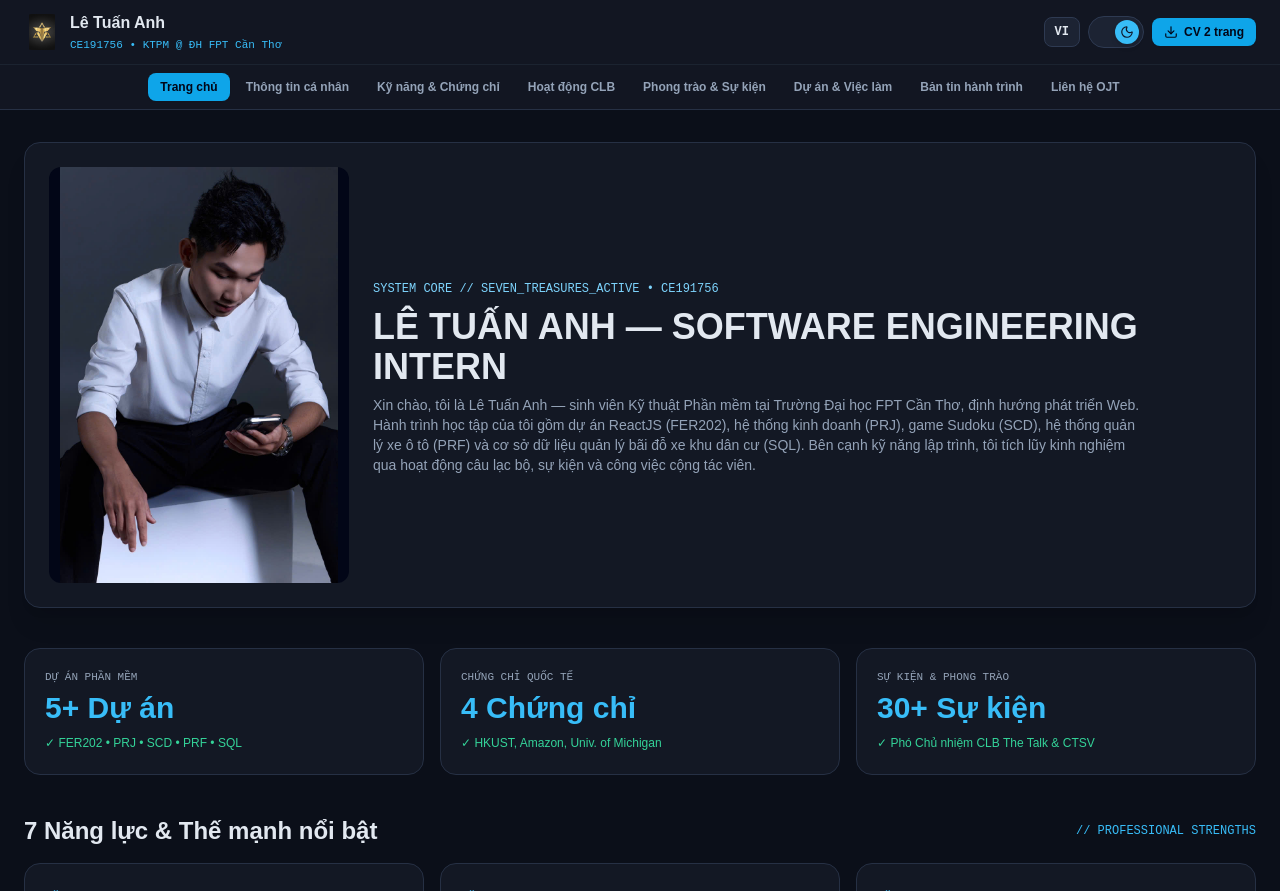
shows a delivery error and keeps the contact form populated
Click the button "Liên hệ OJT".
click(1085, 87)  # box [1039,73,1132,101]
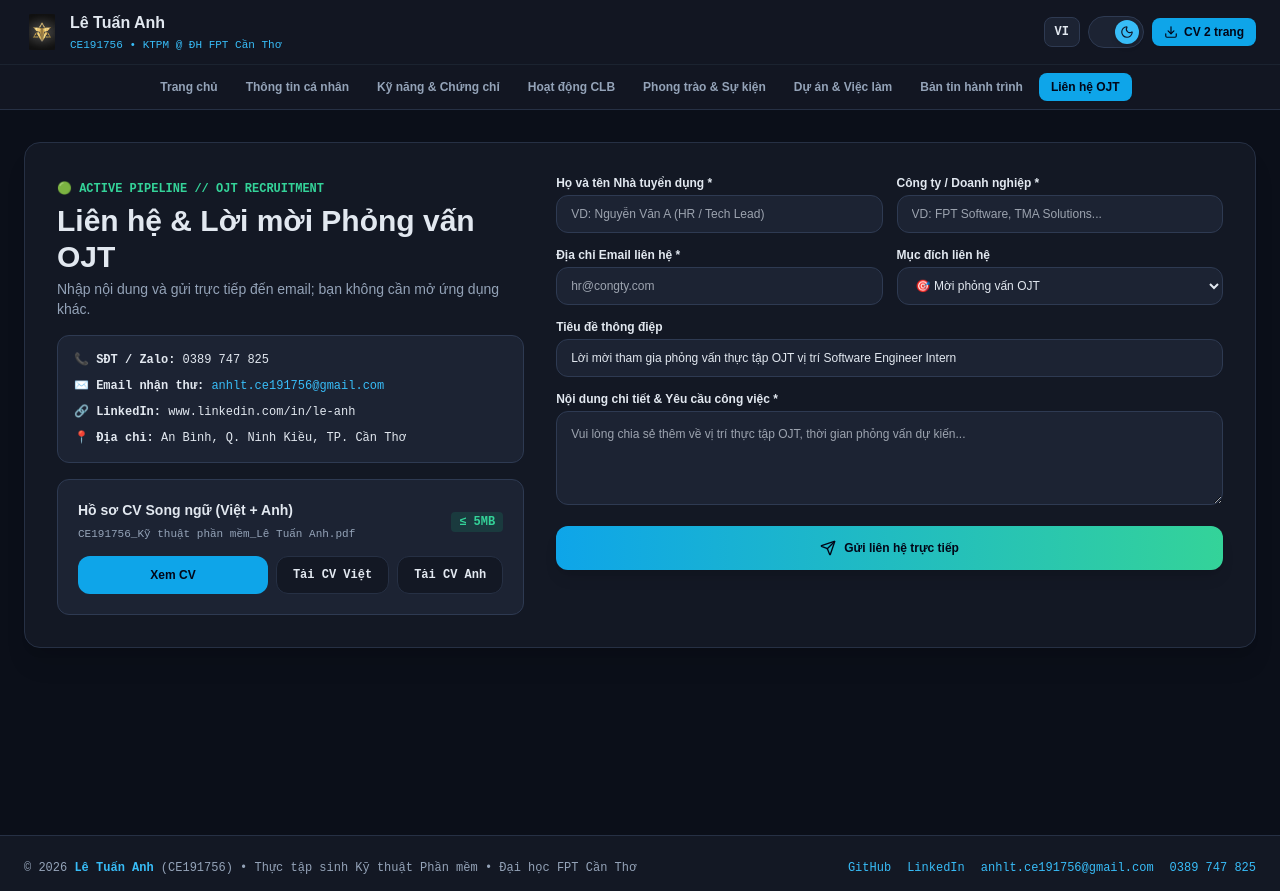
Type "Nguyen Van A" into the field with placeholder "VD: Nguyễn Văn A (HR / Tech Lead)".
click(719, 214); type("Nguyen Van A")  # box [556,195,883,233]
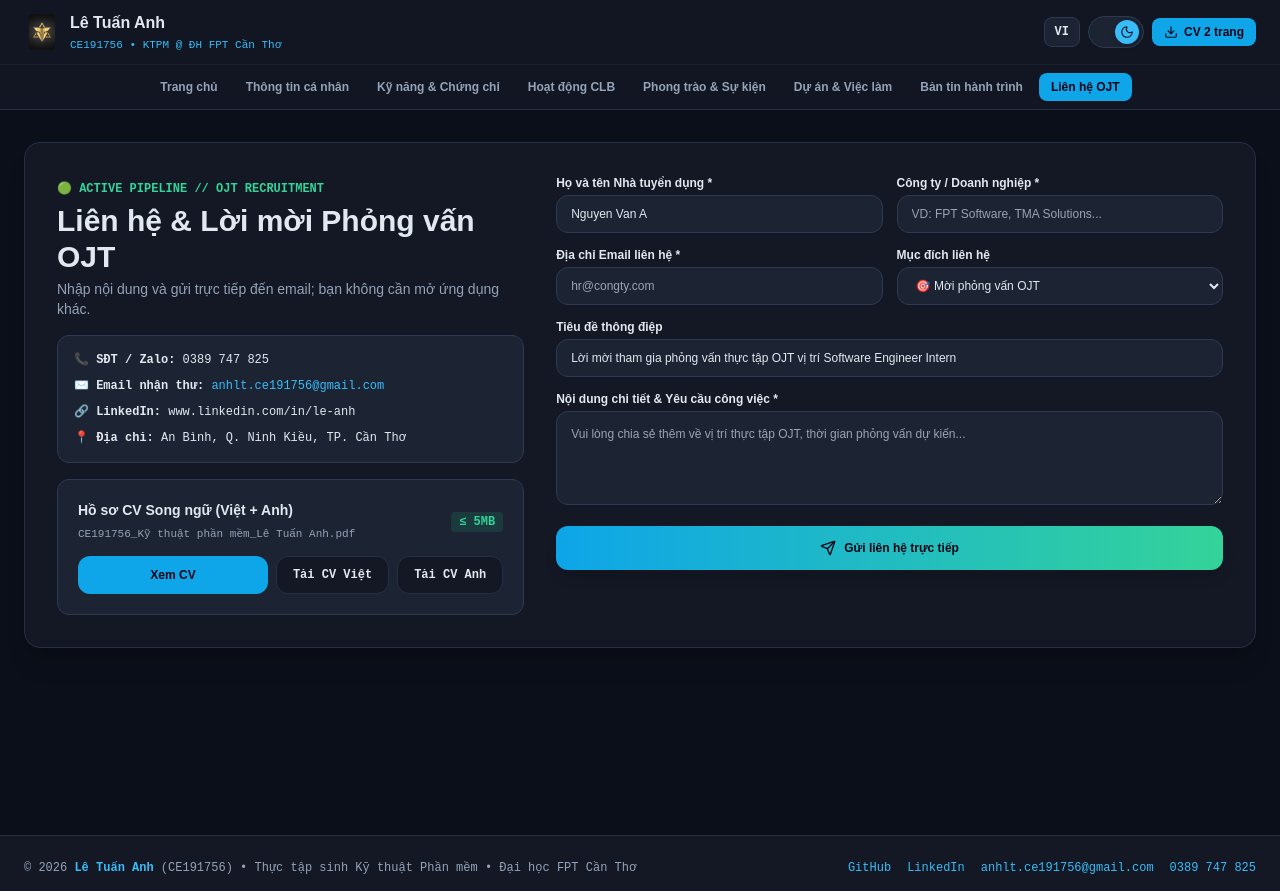
Type "Example Company" into the field with placeholder "VD: FPT Software, TMA Solutions...".
click(1060, 214); type("Example Company")  # box [897,195,1223,233]
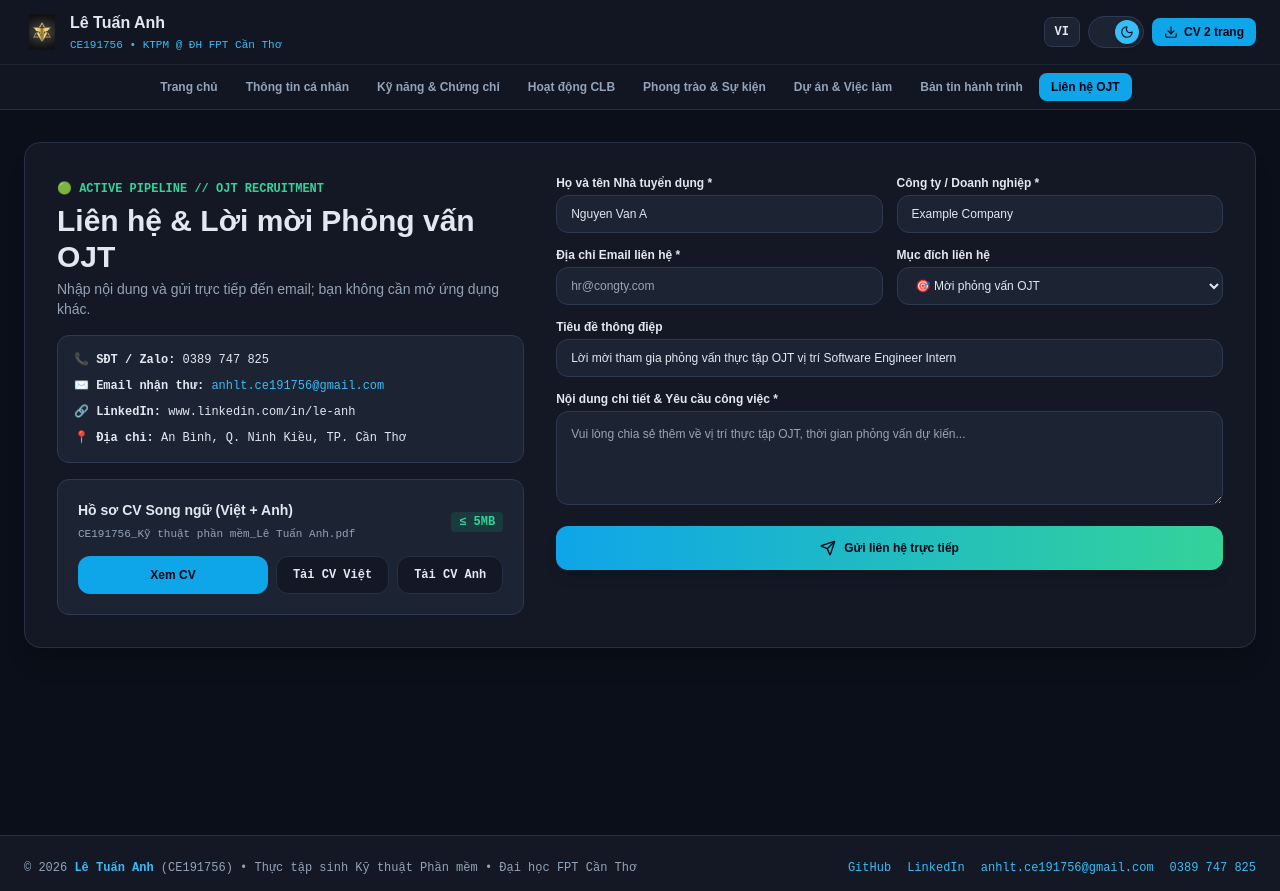
Type "hr@example.com" into the field with placeholder "hr@congty.com".
click(719, 286); type("hr@example.com")  # box [556,267,883,305]
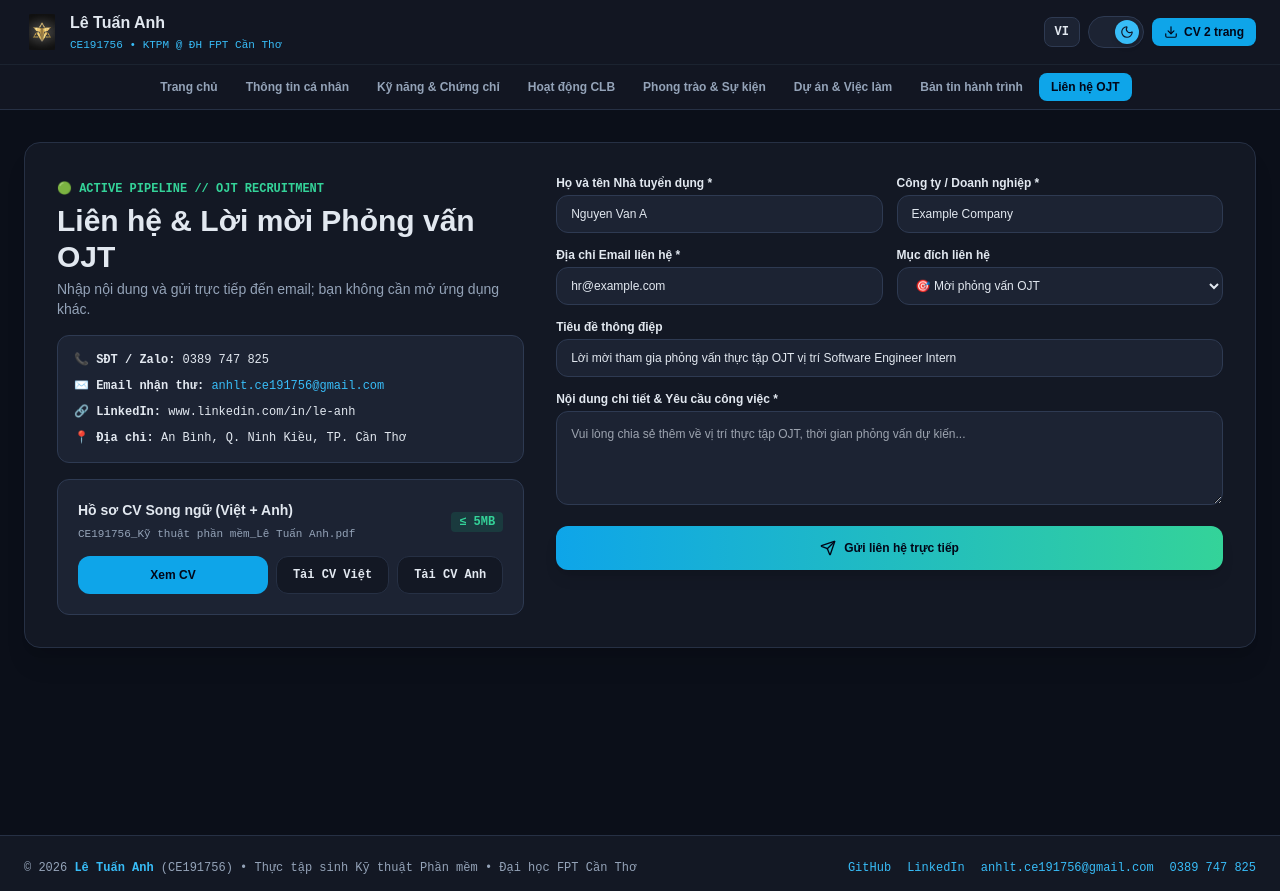
Replace the text in the text box with placeholder "Vui lòng chia sẻ thêm về vị trí thực tập OJT, thời gian phỏng vấn dự kiến..." with "Mời trao đổi về kỳ thực tập OJT sắp tới." at (890, 458), box [556,411,1223,505]
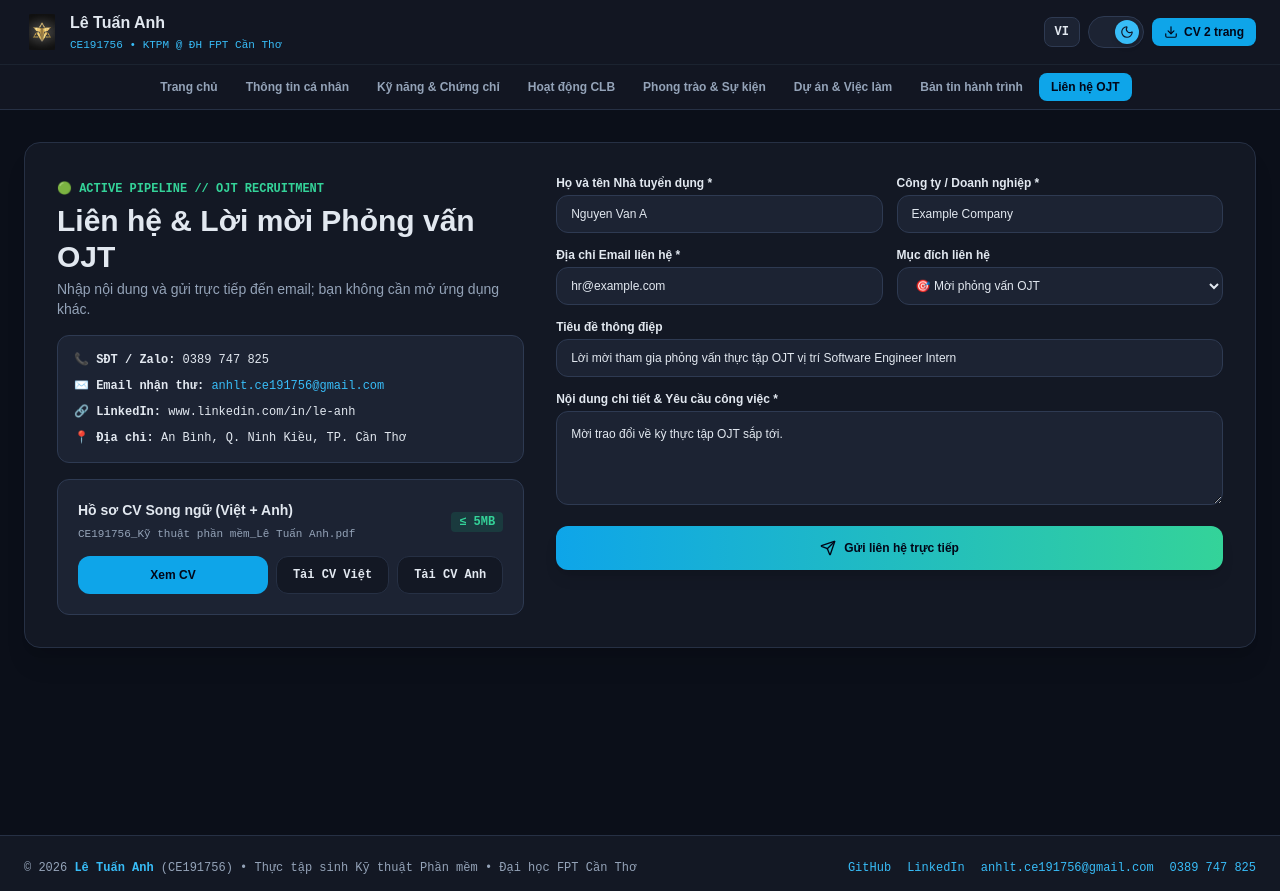
Click the button "Gửi liên hệ trực tiếp".
click(890, 548)  # box [556,526,1223,570]
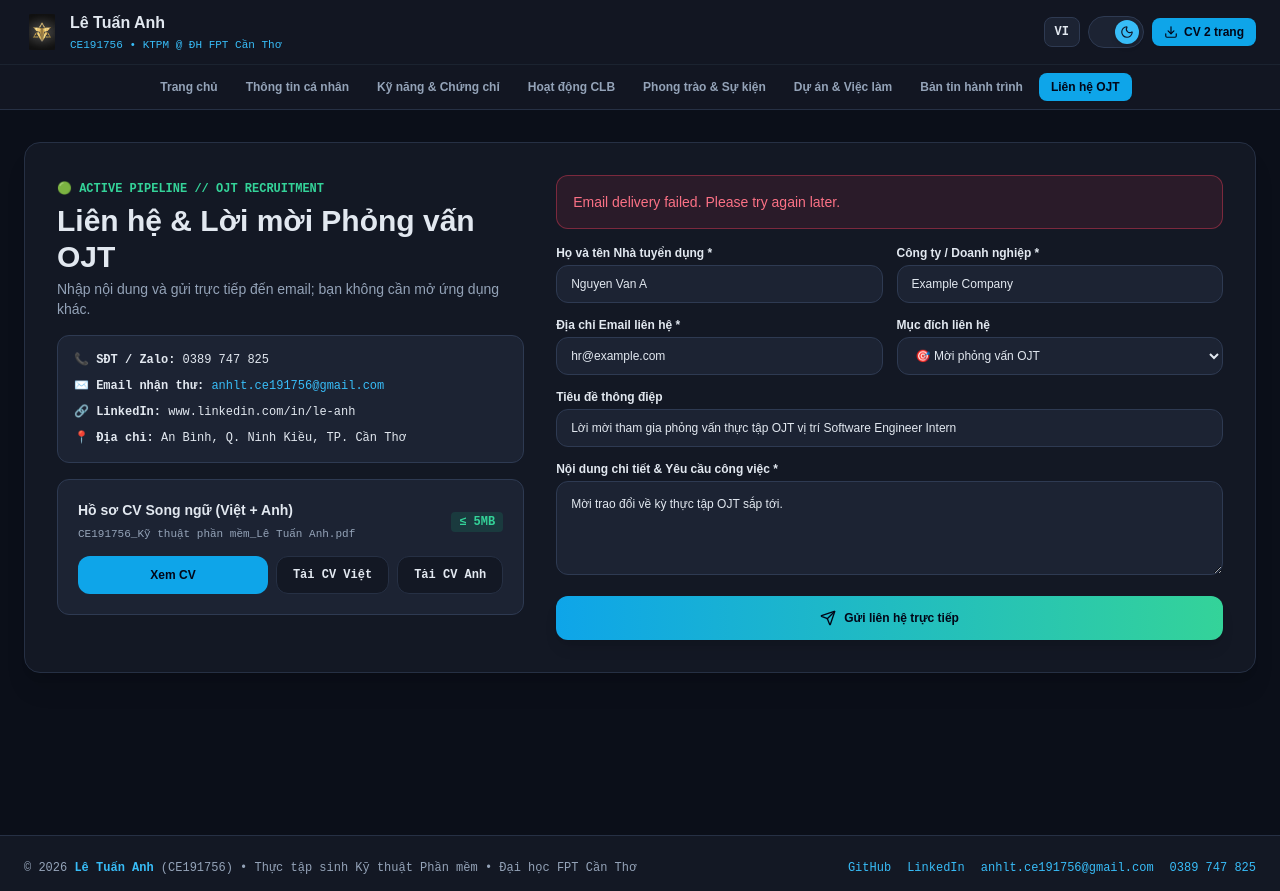
Result: the message reads "Email delivery failed. Please try again later." at [573,194,840,210]
